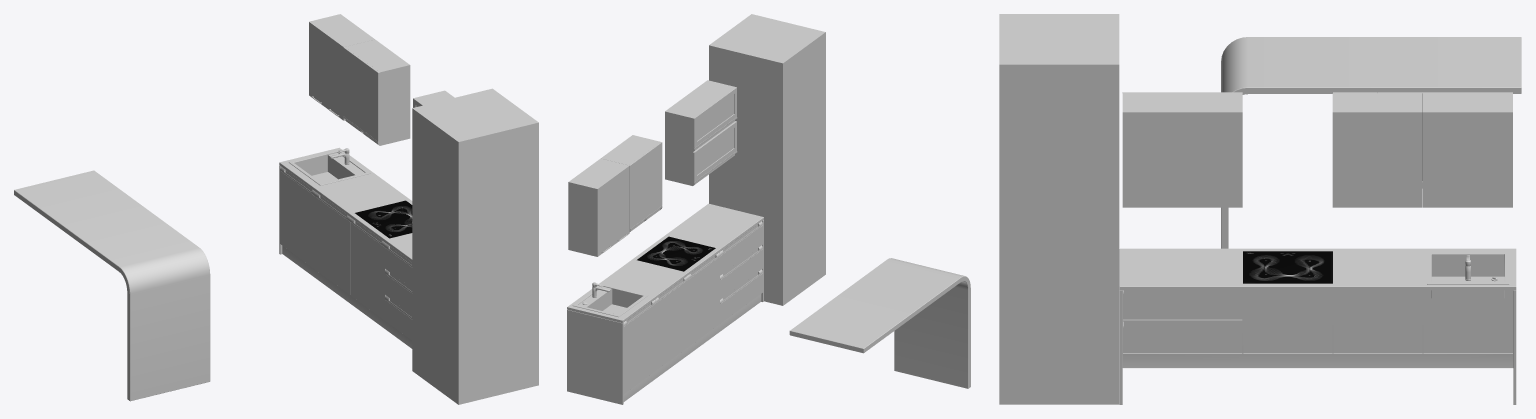
File: Kitchen.FBX
The picture shows the model from 3 angles, left to right: view 1: azimuth 30°, elevation 25°; view 2: azimuth 150°, elevation 25°; view 3: azimuth 270°, elevation 25°; orthographic projection. The views are drawn at different scales.
Parts seen in each view (by area): view 1: Box007, Kitchen_table, Kitchen table, Box020, AmberDoor01, AmberDoor, AmberDoor02, AmberDoor03, Sink, AmberDoor007, Induction_panel, Box027 (+4 smaller); view 2: Box007, Kitchen_table, Kitchen table, Box017, Box021, Box019, AmberDoor03, AmberDoor, AmberDoor02, AmberDoor01, Induction_panel, Sink (+10 smaller); view 3: Box007, Kitchen_table, Box021, Kitchen table, Box020, Box019, Box016, AmberDoor03, AmberDoor02, AmberDoor01, AmberDoor, Sink (+3 smaller).
Boxes of the visible parts, x1,y1,x2,y2 form: Box007: [412, 88, 538, 404]; Kitchen_table: [14, 170, 210, 401]; Kitchen table: [279, 147, 412, 261]; Box020: [346, 39, 410, 145]; AmberDoor01: [315, 197, 350, 294]; AmberDoor: [280, 171, 315, 268]; AmberDoor02: [350, 222, 385, 320]; AmberDoor03: [385, 248, 412, 339]; Sink: [289, 148, 370, 185]; AmberDoor007: [360, 59, 379, 141]; Induction_panel: [355, 200, 412, 238]; Box027: [326, 34, 344, 120]; Box007: [709, 14, 825, 305]; Kitchen_table: [789, 258, 970, 388]; Kitchen table: [567, 203, 763, 322]; Box017: [567, 310, 623, 404]; Box021: [665, 80, 734, 185]; Box019: [568, 158, 627, 256]; AmberDoor03: [720, 225, 762, 323]; AmberDoor: [623, 303, 655, 393]; AmberDoor02: [688, 257, 719, 346]; AmberDoor01: [656, 280, 687, 370]; Induction_panel: [637, 236, 715, 271]; Sink: [572, 282, 648, 317]; Box007: [999, 14, 1119, 404]; Kitchen_table: [1221, 37, 1521, 248]; Box021: [1122, 93, 1242, 207]; Kitchen table: [1119, 248, 1516, 290]; Box020: [1332, 93, 1422, 207]; Box019: [1423, 93, 1512, 207]; Box016: [1122, 290, 1513, 368]; AmberDoor03: [1123, 292, 1242, 353]; AmberDoor02: [1243, 290, 1332, 353]; AmberDoor01: [1333, 290, 1422, 353]; AmberDoor: [1423, 290, 1512, 353]; Sink: [1427, 252, 1509, 298].
Bounding box in the file's own units: 322 × 250 × 348.
